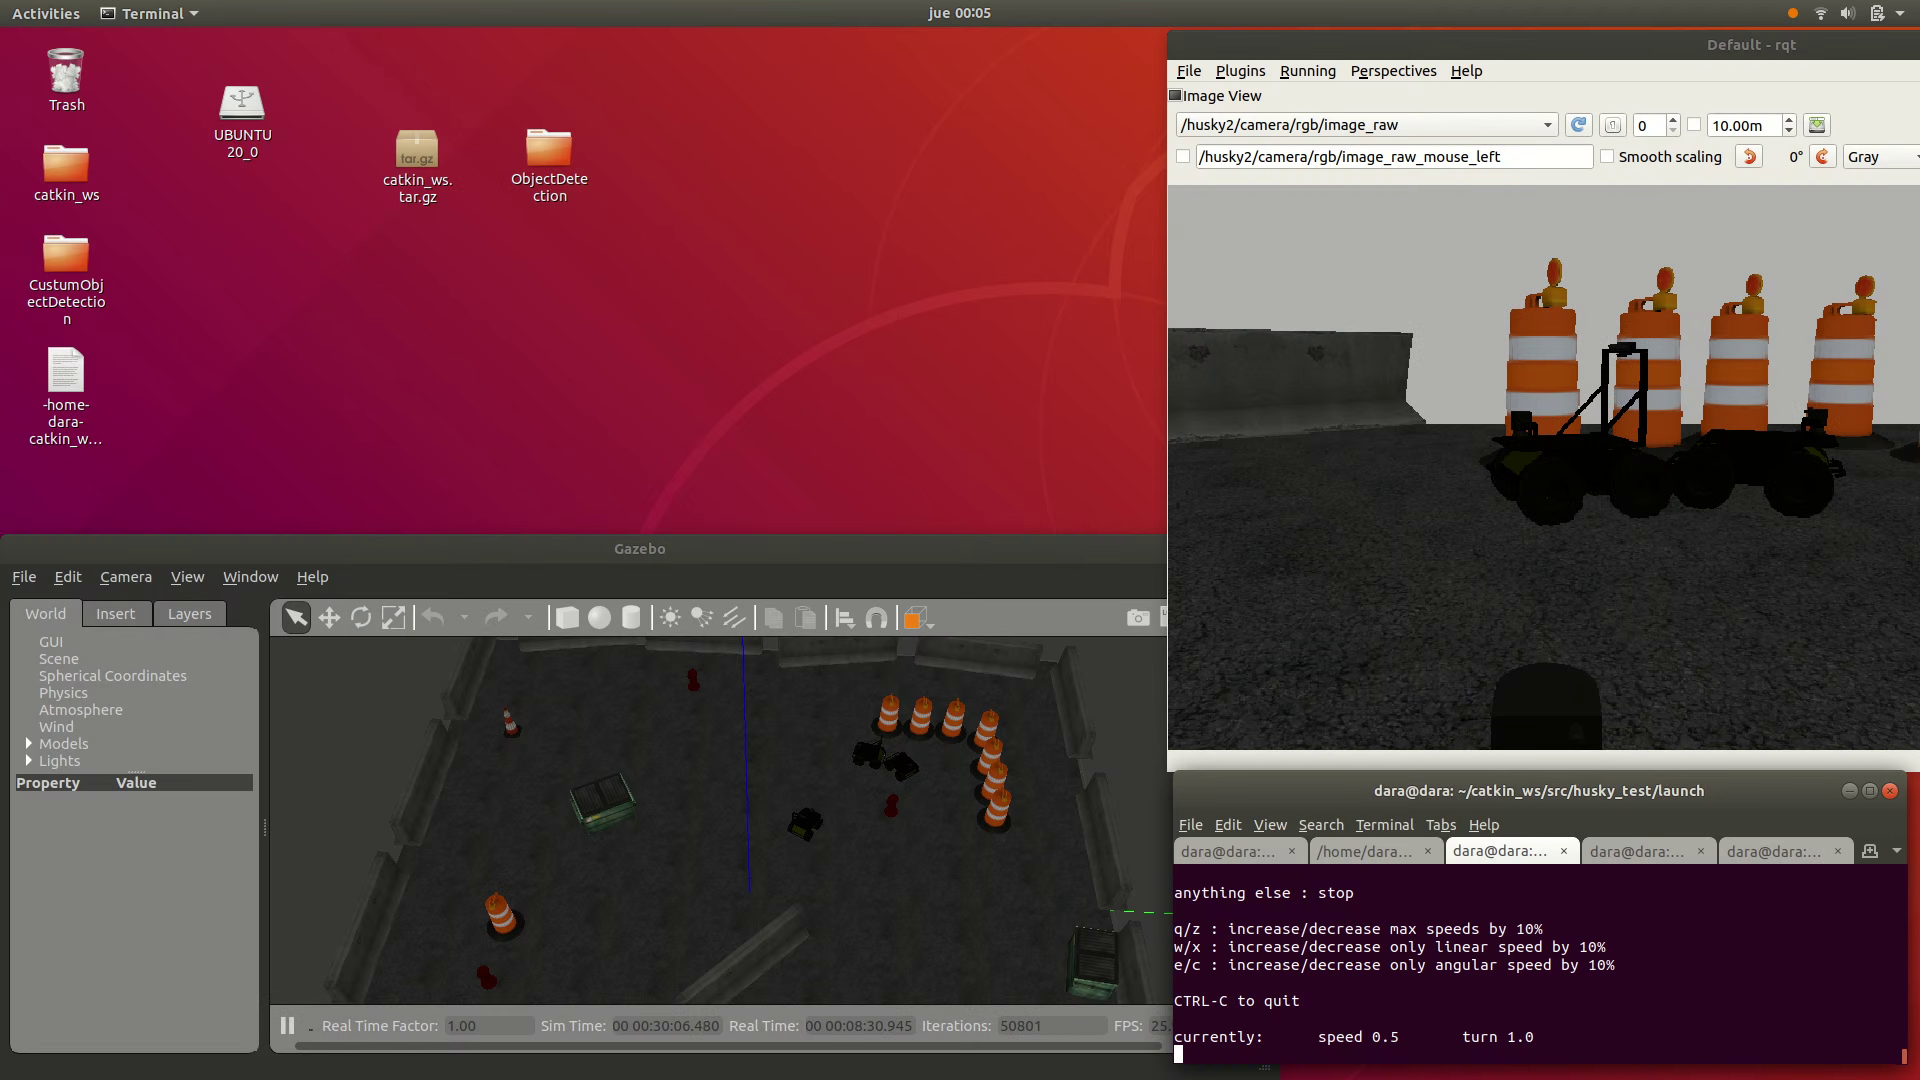husky: (1480, 433, 1673, 526), (1673, 429, 1846, 517), (787, 807, 823, 842), (884, 751, 920, 782), (851, 741, 887, 770)
